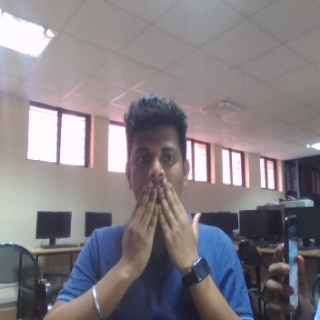Thank You: (115, 180, 207, 274)
